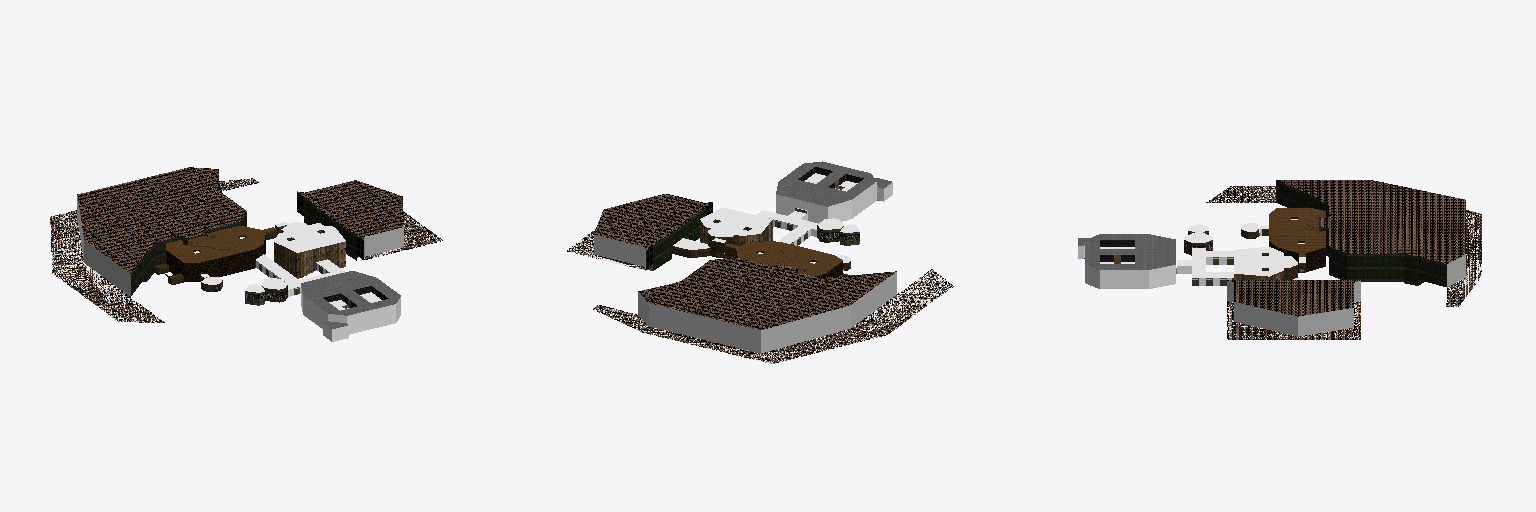
The picture shows the model from 3 angles: view 1: azimuth 30°, elevation 25°; view 2: azimuth 150°, elevation 25°; view 3: azimuth 270°, elevation 25°; orthographic projection.
Visible parts, largest first — view 1: MAP01; view 2: MAP01; view 3: MAP01.
Boxes of the visible parts, box(x1,y1,x2,y2) form: MAP01: box(50, 167, 443, 341); MAP01: box(567, 161, 953, 363); MAP01: box(1078, 180, 1481, 339).
Bounding box in the file's own units: 3376 × 304 × 3648.
68 materials, 50 textured.